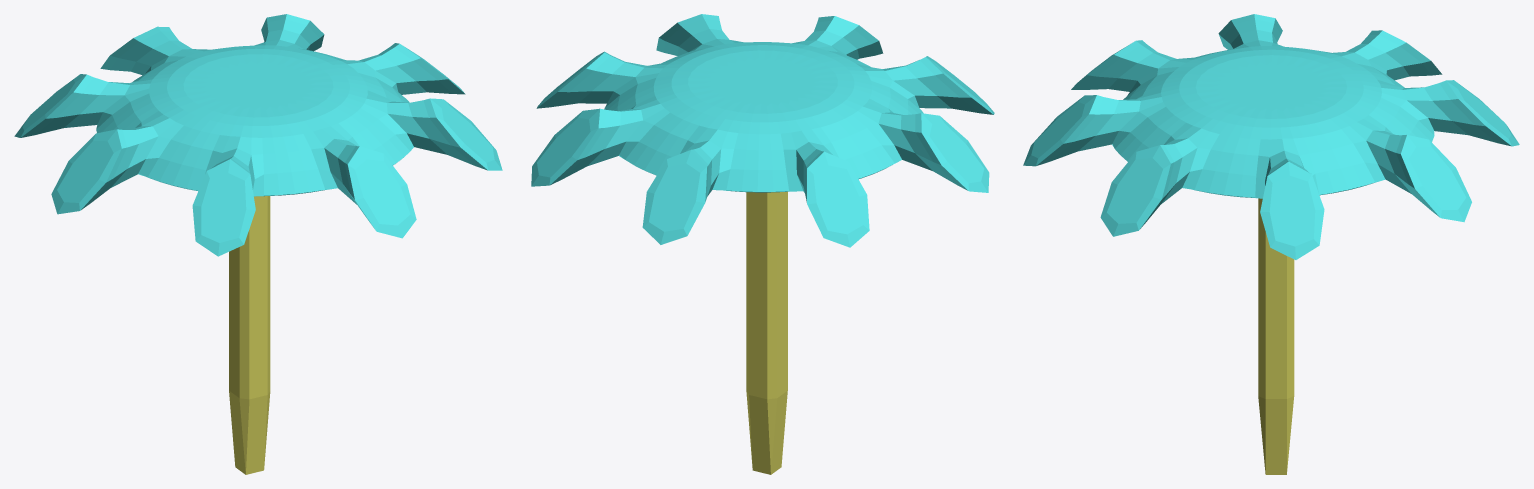
The model's file is Flower2.fbx.
The picture shows the model from 3 angles, left to right: view 1: azimuth 30°, elevation 25°; view 2: azimuth 150°, elevation 25°; view 3: azimuth 270°, elevation 25°; orthographic projection.
Parts seen in each view (by area): view 1: Flower2; view 2: Flower2; view 3: Flower2.
Boxes of the visible parts, x1=… form: Flower2: x1=14, y1=14, x2=502, y2=474; Flower2: x1=531, y1=14, x2=994, y2=474; Flower2: x1=1023, y1=14, x2=1519, y2=474.
Bounding box in the file's own units: 34.15 × 29.33 × 34.15.
